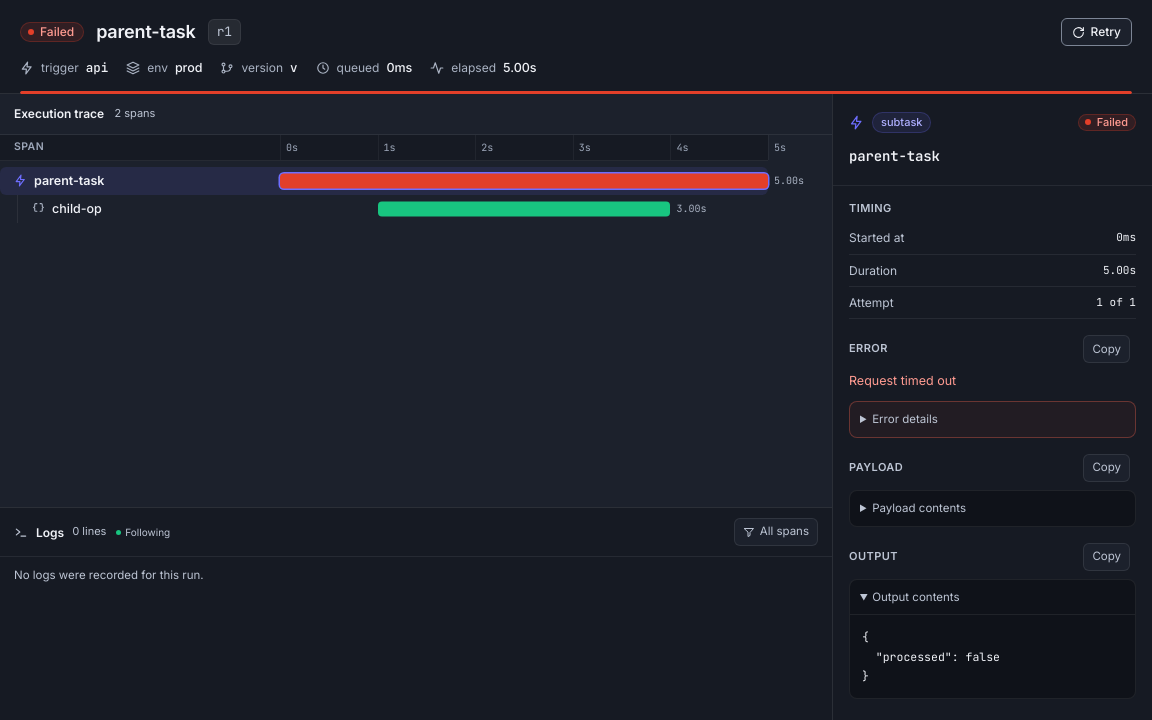
Test: Inspector content and copy feedback › reports denied clipboard access and clears feedback when another span is selected
The width and height of the screenshot is (1152, 720).
Click the button with aria-label "Copy Output" at (1107, 557), box [1083,543,1130,571]
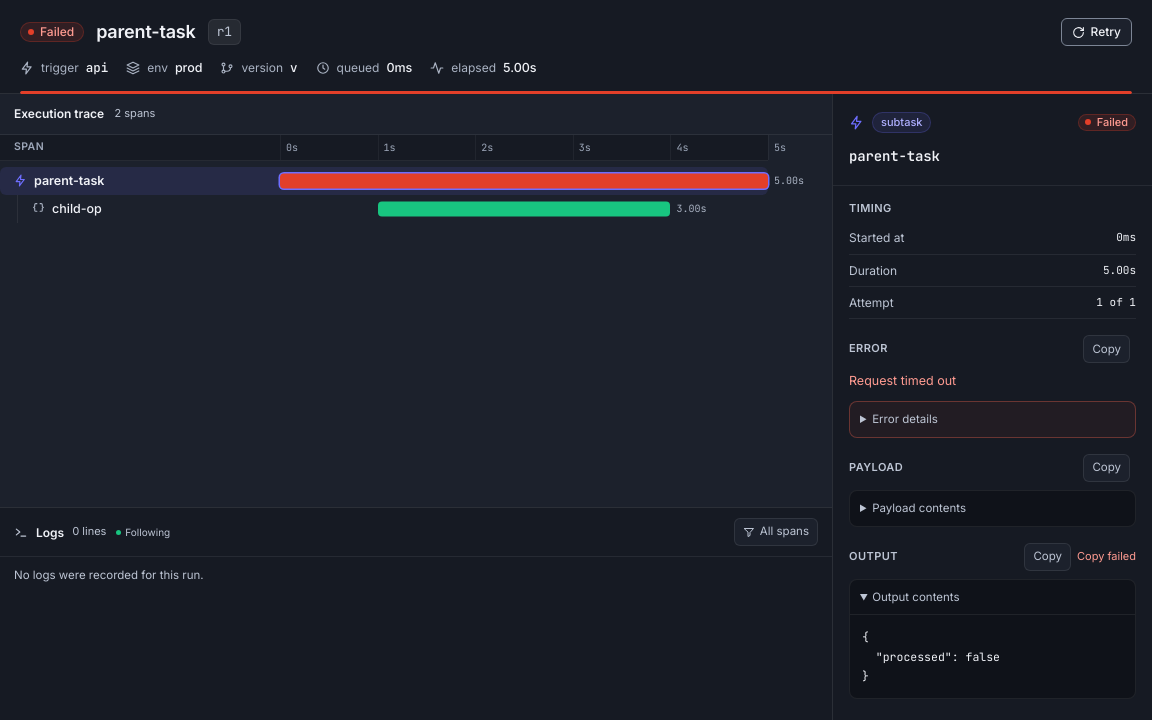
Expected: the text "Copied" is not shown
Expected: the text "Copy failed" is shown, [1077,549,1136,565]
Click the button "child-op 3.00s" at (77, 208), box [32,200,706,216]
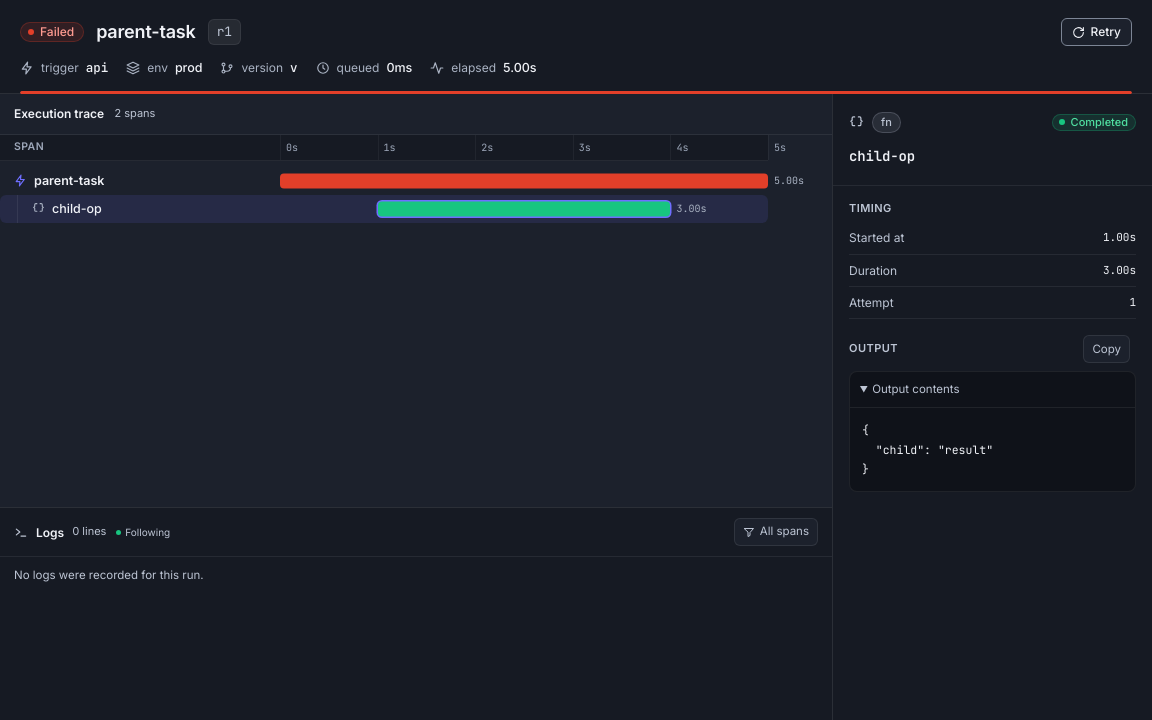
Expected: the text "Copy failed" is gone
Click the button with aria-label "Copy Output" at (1107, 349), box [1083,335,1130,363]
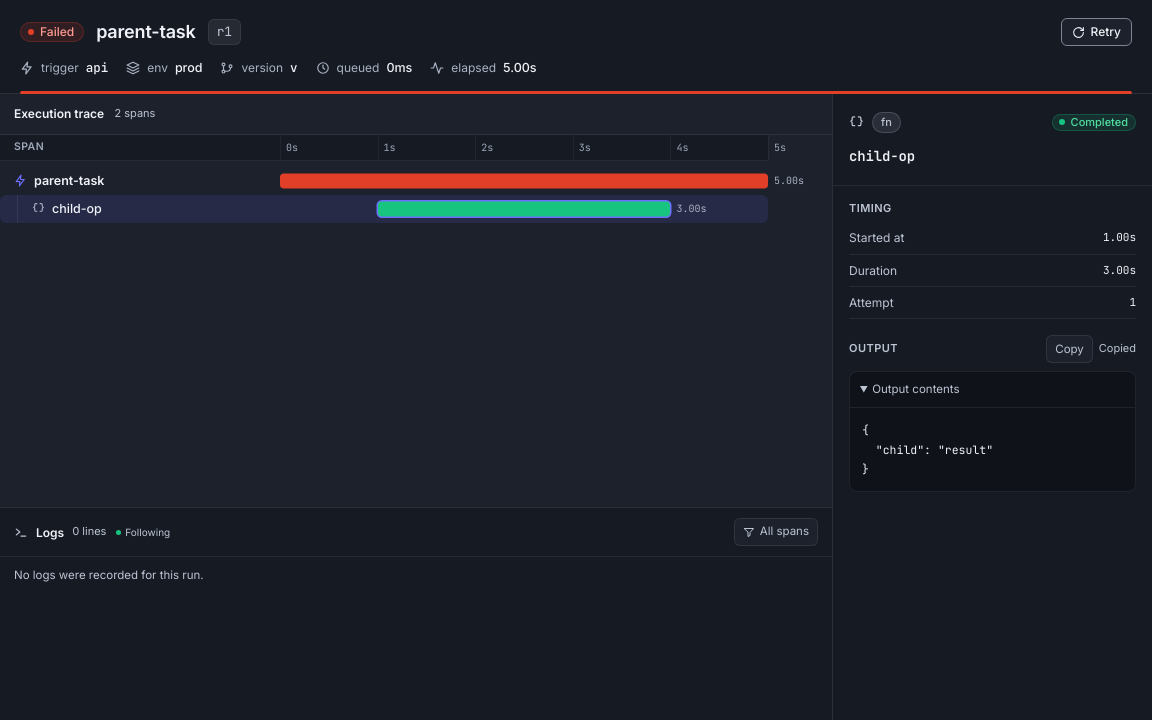
Expected: the text "Copied" is shown, [1099,341,1136,357]
